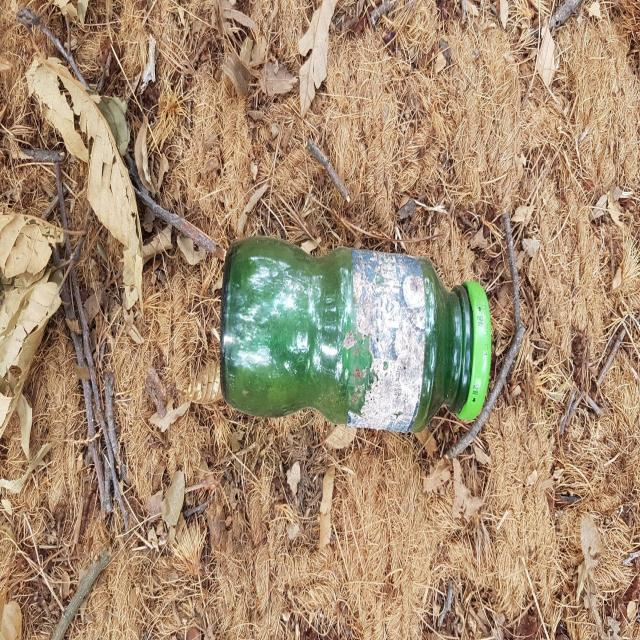glass: (220, 236, 492, 432)
